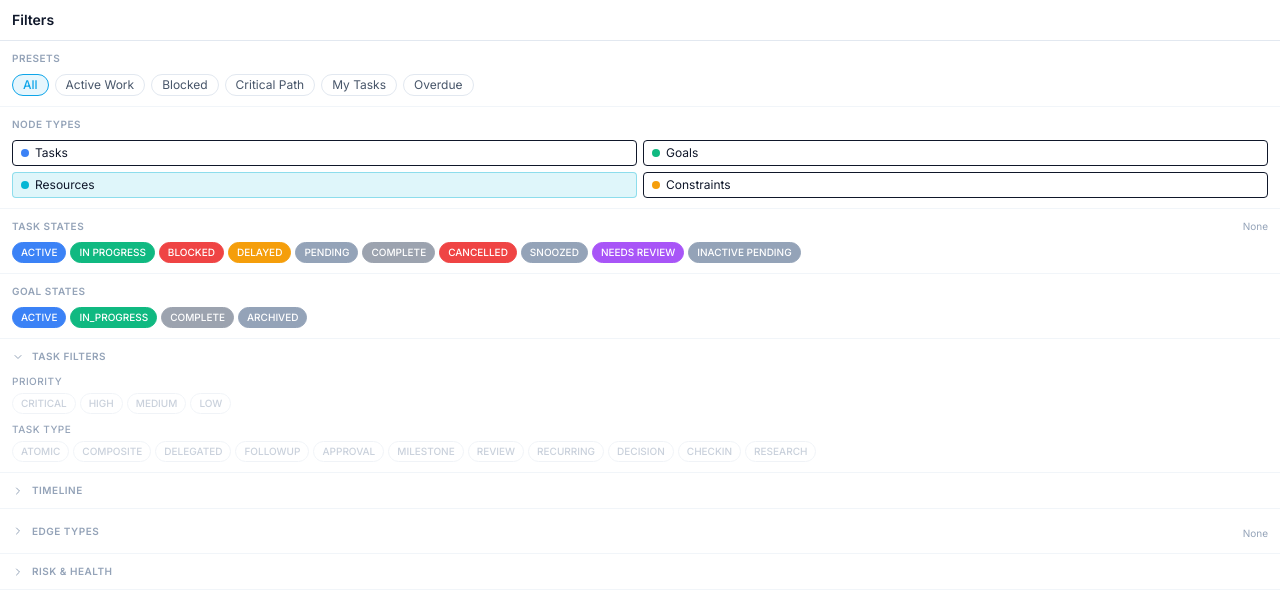
Test case: GraphFilterPanel › shows filter count badge after applying non-all preset
This screenshot has width=1280, height=607.
Click the button with test id "preset-blocked" at x=185, y=85, box [151, 74, 219, 96]
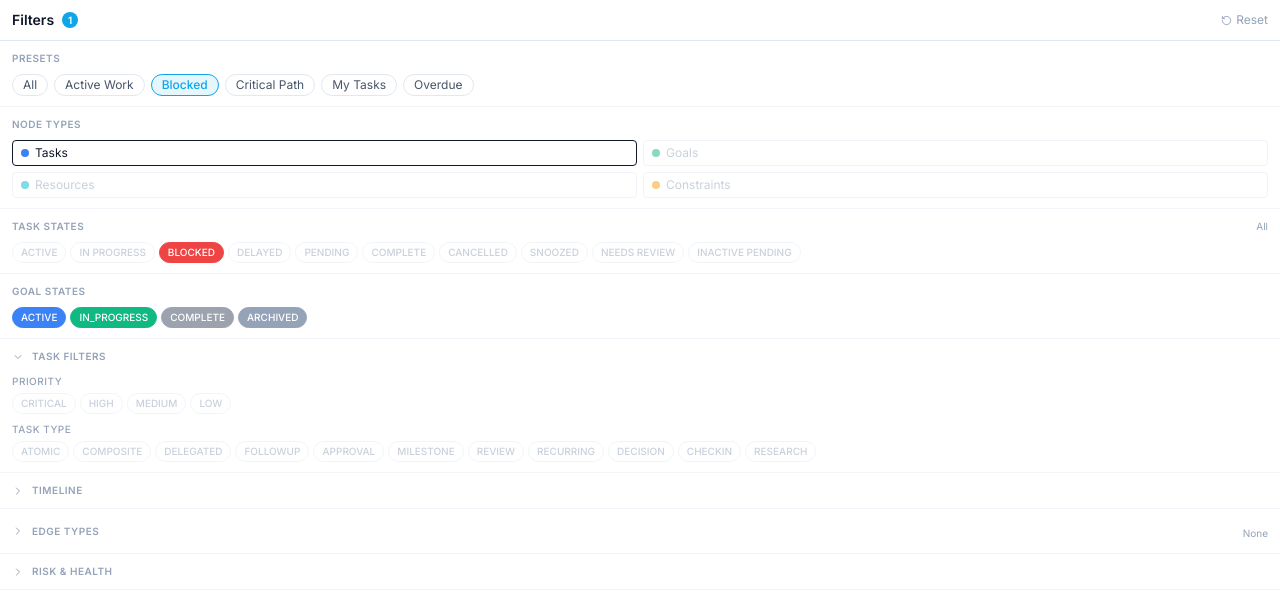
Check: the text "1" is shown, box [62, 12, 78, 28]
